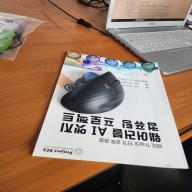mouse: (59, 68, 133, 120)
